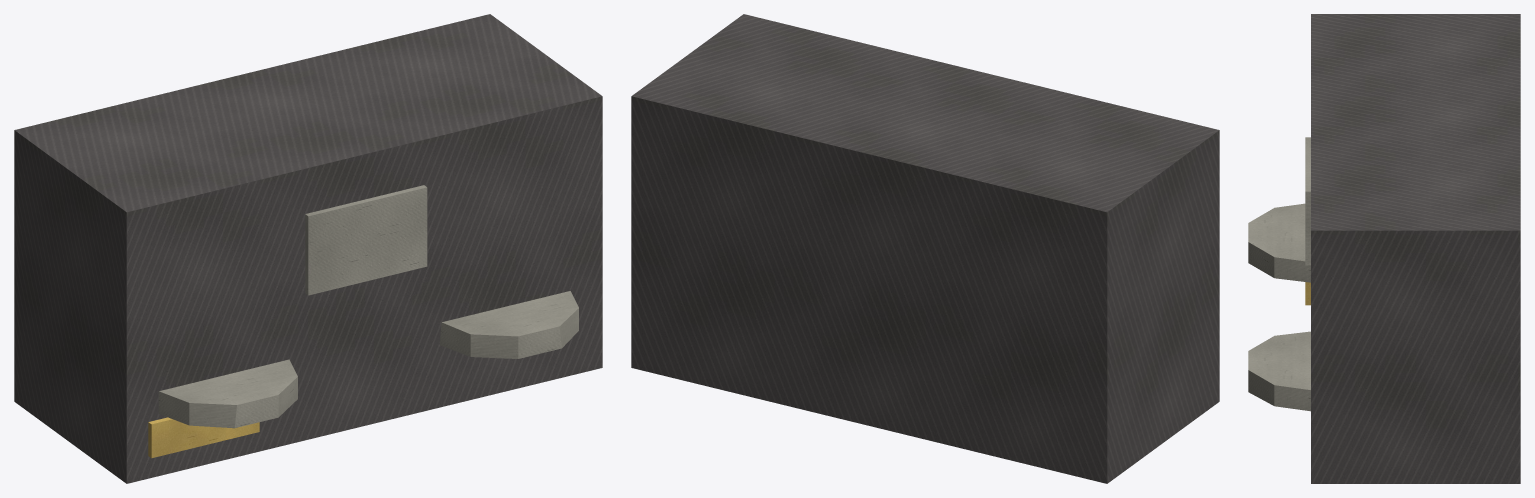
File: boombox_v2.glb
3 views of the same model, side by side, from view 1: azimuth 30°, elevation 25°; view 2: azimuth 150°, elevation 25°; view 3: azimuth 270°, elevation 25° (orthographic). The views are drawn at different scales.
Visible parts, largest first — view 1: Variant_boombox_2; view 2: Variant_boombox_2; view 3: Variant_boombox_2.
Boxes of the visible parts, bbox=[...] form: Variant_boombox_2: bbox=[14, 14, 602, 483]; Variant_boombox_2: bbox=[631, 14, 1219, 483]; Variant_boombox_2: bbox=[1248, 14, 1520, 483].
Bounding box in the file's own units: 0.44 × 0.24 × 0.234.
3 materials, 3 textured.
